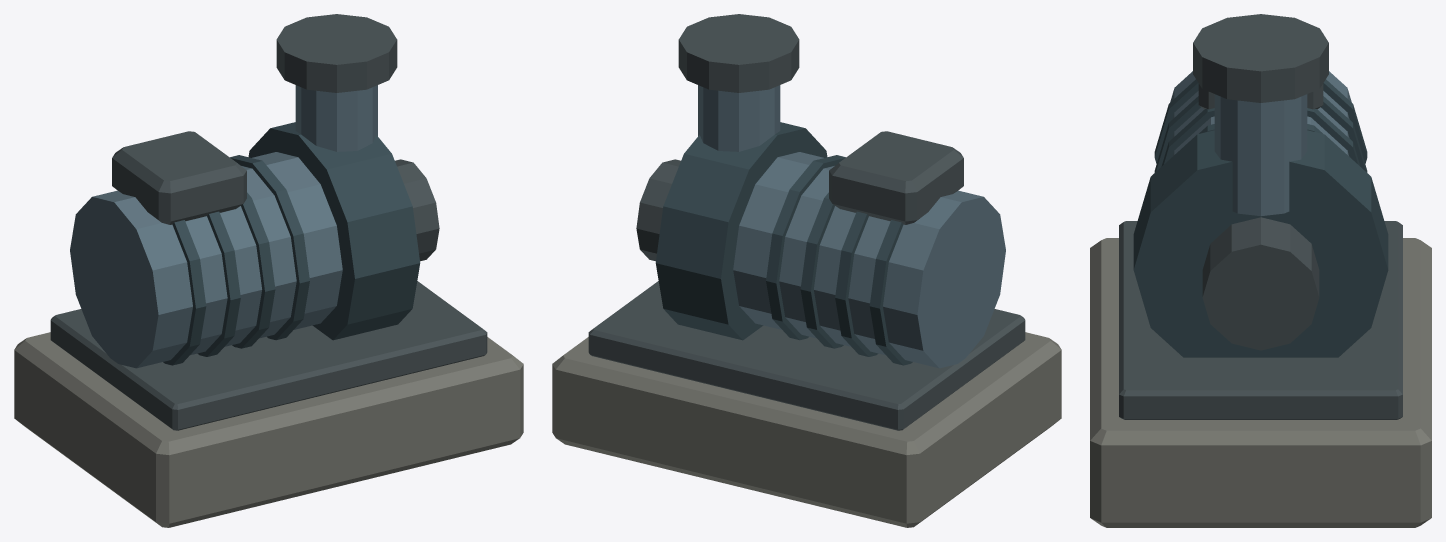
File: WaterworksLower_StationaryPump.fbx
The picture shows the model from 3 angles, left to right: view 1: azimuth 30°, elevation 25°; view 2: azimuth 150°, elevation 25°; view 3: azimuth 270°, elevation 25°; orthographic projection. The views are drawn at different scales.
Parts seen in each view (by area): view 1: WaterworksLower_StationaryPump; view 2: WaterworksLower_StationaryPump; view 3: WaterworksLower_StationaryPump.
Boxes of the visible parts, x1,y1,x2,y2 form: WaterworksLower_StationaryPump: (14,14,523,527); WaterworksLower_StationaryPump: (552,14,1061,527); WaterworksLower_StationaryPump: (1090,14,1431,527).
Size of the model in its own units: 0.91 by 0.8945 by 0.65.
